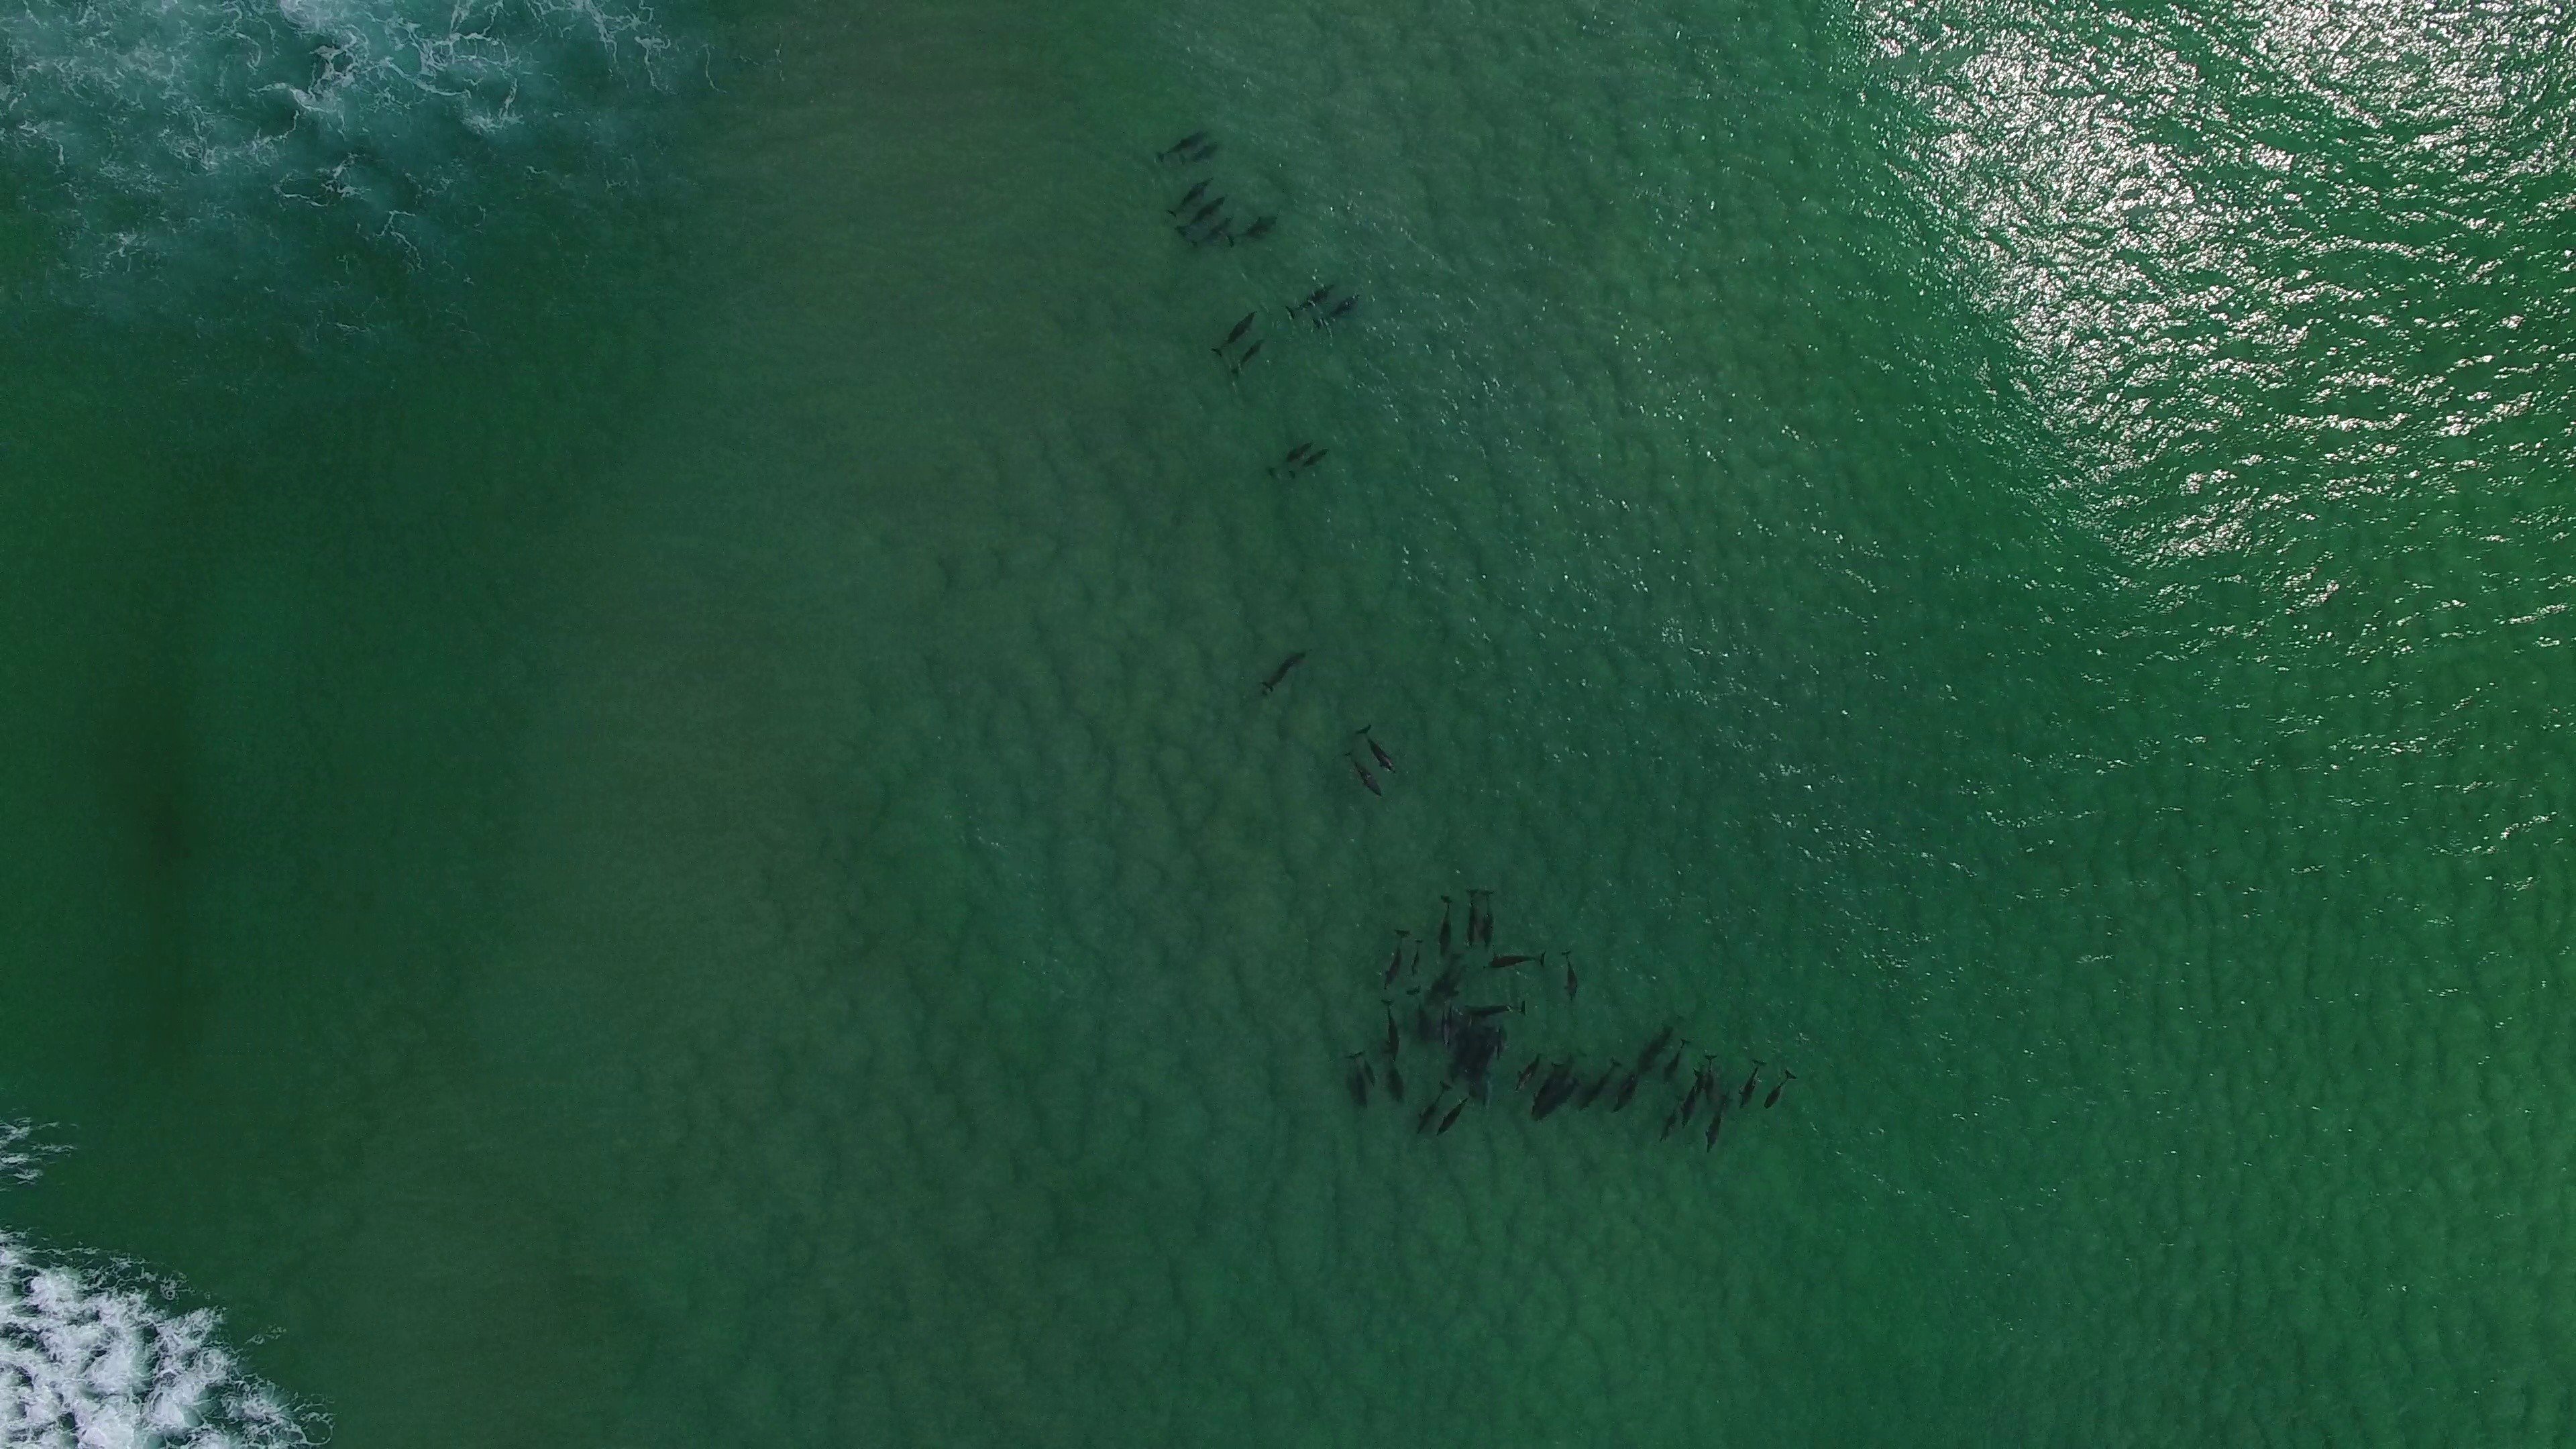dolphin: (1260, 639, 1316, 695), (1175, 186, 1233, 237), (1575, 1056, 1624, 1116), (1210, 306, 1260, 361), (1284, 278, 1339, 320), (1169, 172, 1217, 219), (1155, 122, 1214, 161), (1484, 939, 1548, 975), (1380, 927, 1412, 996), (1226, 209, 1281, 248), (1353, 727, 1398, 775), (1343, 752, 1387, 800), (1265, 437, 1316, 478), (1313, 288, 1362, 329), (1438, 1088, 1479, 1138), (1530, 1063, 1568, 1116), (1196, 203, 1240, 248), (1415, 1081, 1451, 1136), (1612, 1065, 1647, 1118), (1702, 1092, 1732, 1152), (1231, 333, 1270, 377), (1288, 442, 1334, 479), (1465, 996, 1530, 1021), (1341, 1053, 1368, 1108), (1384, 1044, 1408, 1102), (1435, 892, 1456, 959), (1737, 1054, 1762, 1111), (1764, 1065, 1794, 1111), (1380, 996, 1401, 1056), (1557, 950, 1582, 1001), (1516, 1051, 1546, 1092), (1660, 1097, 1686, 1143), (1663, 1037, 1691, 1079), (1463, 885, 1481, 952), (1412, 982, 1430, 1049), (1435, 1005, 1458, 1051), (1684, 1069, 1706, 1118), (1184, 140, 1221, 166), (1479, 888, 1495, 950), (1706, 1047, 1721, 1102), (1357, 1051, 1376, 1086), (1410, 936, 1426, 977), (1497, 1023, 1511, 1062)
